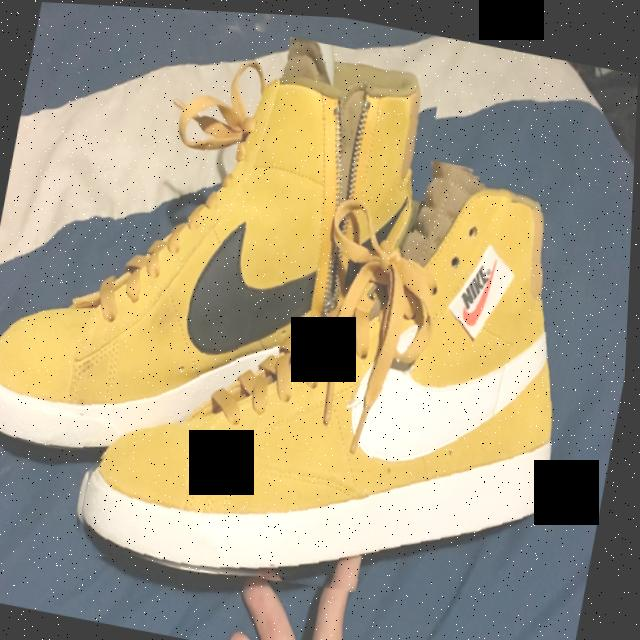shoe: (71, 101, 607, 635), (0, 0, 446, 511)
